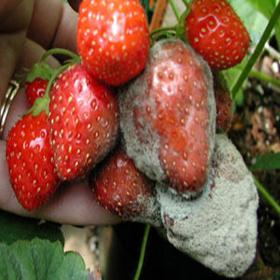Gray Mold: (118, 40, 216, 201), (156, 133, 259, 278), (87, 141, 162, 226), (52, 107, 121, 179)
